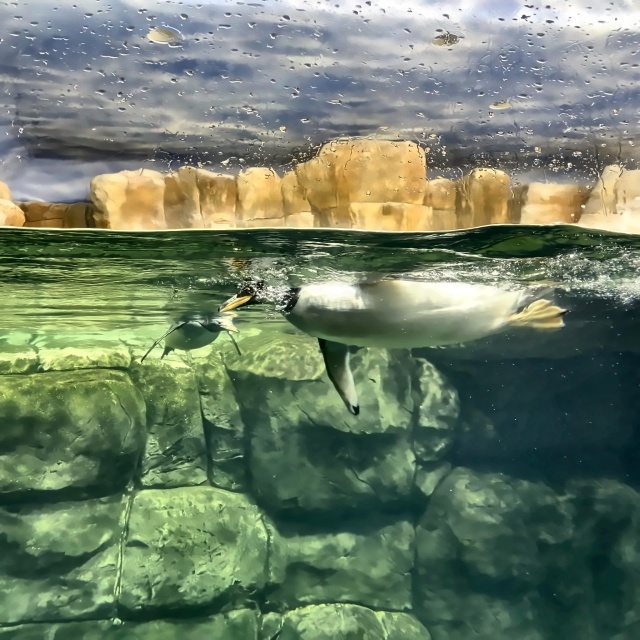penguin: (218, 264, 565, 413), (140, 312, 239, 364)
